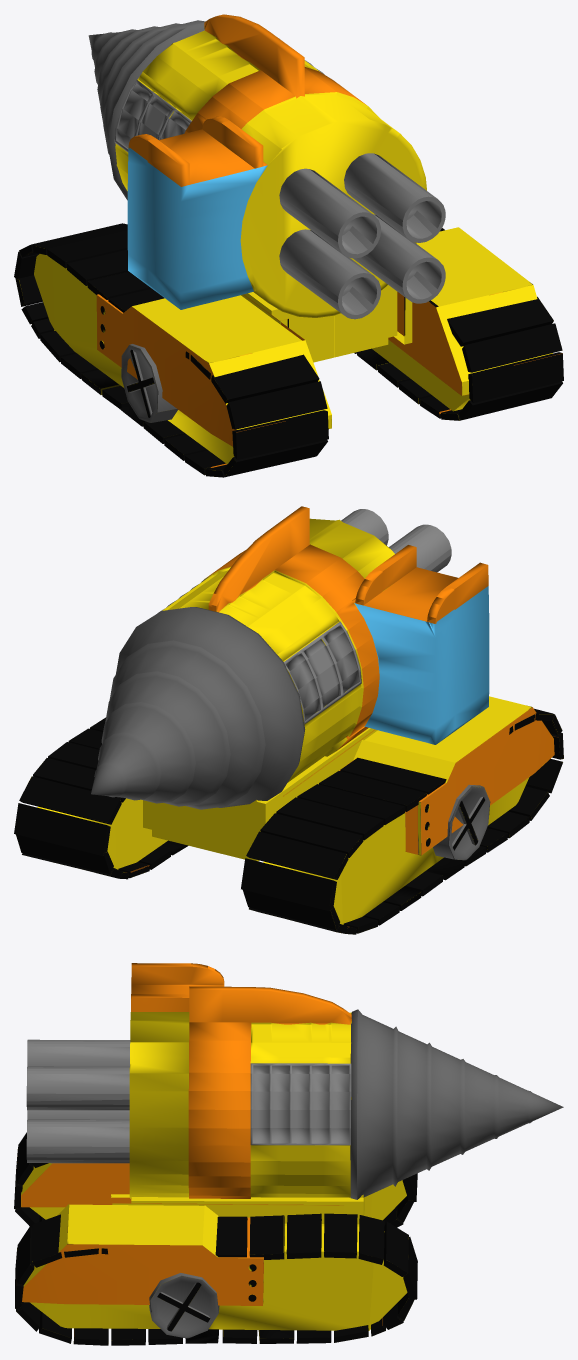
File: Esbadora_Cono_Completo.fbx
3 renders of one model, top to bottom at view 1: azimuth 30°, elevation 25°; view 2: azimuth 150°, elevation 25°; view 3: azimuth 270°, elevation 25°, orthographic. The views are drawn at different scales.
Parts seen in each view (by area): view 1: Cube.025, Llanta.006, Llanta.017, Drill_Ozamanas.014, Cube.022, Llanta.008; view 2: Cube.025, Llanta.006, Drill_Ozamanas.014, Llanta.017, Cube.022, Llanta.008; view 3: Cube.025, Llanta.017, Drill_Ozamanas.014, Llanta.006, Llanta.007, Cube.022.
Part boxes in pixels (left/top/right/bottom): Cube.025: left=114, top=14, right=445, bottom=319; Llanta.006: left=14, top=223, right=331, bottom=477; Llanta.017: left=354, top=227, right=563, bottom=420; Drill_Ozamanas.014: left=88, top=20, right=279, bottom=200; Cube.022: left=244, top=285, right=397, bottom=362; Llanta.008: left=121, top=344, right=177, bottom=422; Cube.025: left=158, top=506, right=489, bottom=782; Llanta.006: left=241, top=696, right=563, bottom=934; Drill_Ozamanas.014: left=91, top=607, right=305, bottom=809; Llanta.017: left=14, top=717, right=188, bottom=879; Cube.022: left=143, top=728, right=374, bottom=861; Llanta.008: left=433, top=784, right=490, bottom=860; Cube.025: left=26, top=963, right=351, bottom=1198; Llanta.017: left=15, top=1203, right=417, bottom=1345; Drill_Ozamanas.014: left=350, top=1009, right=563, bottom=1199; Llanta.006: left=14, top=1132, right=417, bottom=1227; Llanta.007: left=149, top=1273, right=219, bottom=1338; Cube.022: left=131, top=1194, right=364, bottom=1224.
Size of the model in its own units: 8.03 by 7.54 by 13.03.
6 materials, 6 textured.
